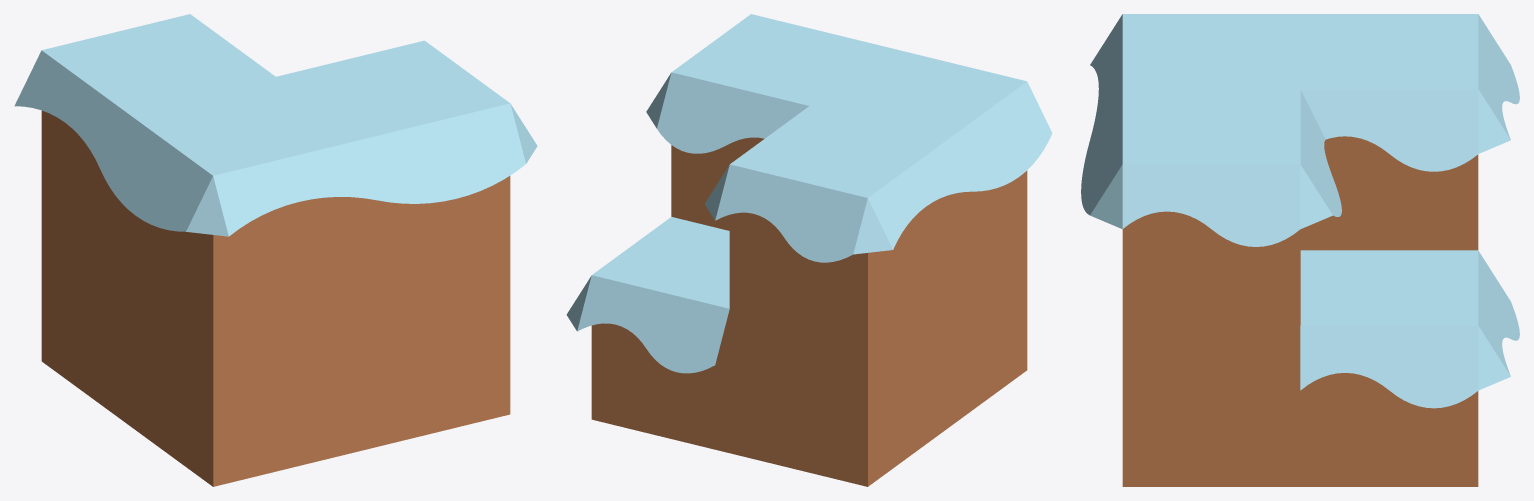
File: blockSnowLevel.glb
3 views of the same model, side by side, from view 1: azimuth 30°, elevation 25°; view 2: azimuth 150°, elevation 25°; view 3: azimuth 270°, elevation 25° (orthographic). The views are drawn at different scales.
Parts seen in each view (by area): view 1: blockSnowLevel; view 2: blockSnowLevel; view 3: blockSnowLevel.
Boxes of the visible parts, x1=… form: blockSnowLevel: x1=14, y1=14, x2=537, y2=486; blockSnowLevel: x1=566, y1=14, x2=1052, y2=486; blockSnowLevel: x1=1081, y1=14, x2=1519, y2=486.
Size of the model in its own units: 1.23 by 1 by 1.23.
